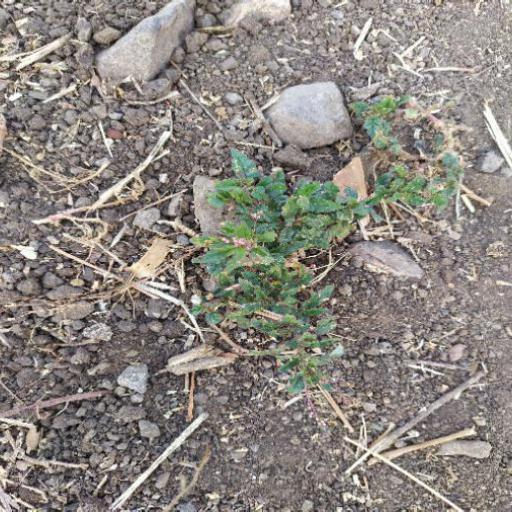weed: (205, 122, 457, 371)
